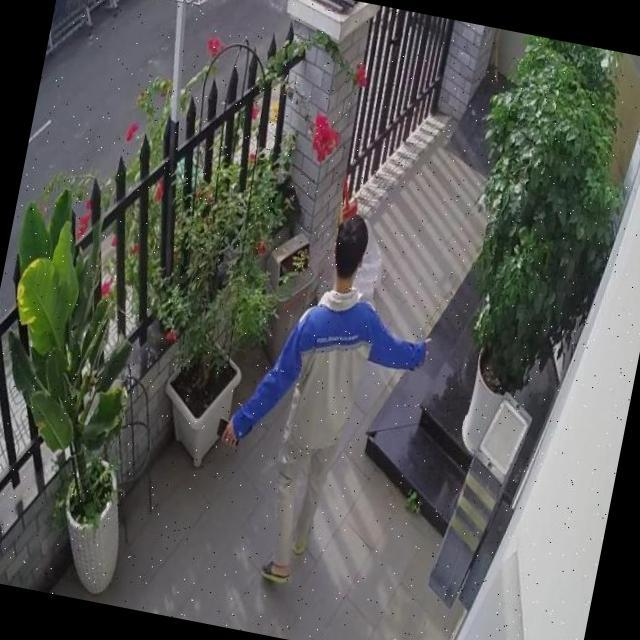person: (196, 193, 448, 606)
